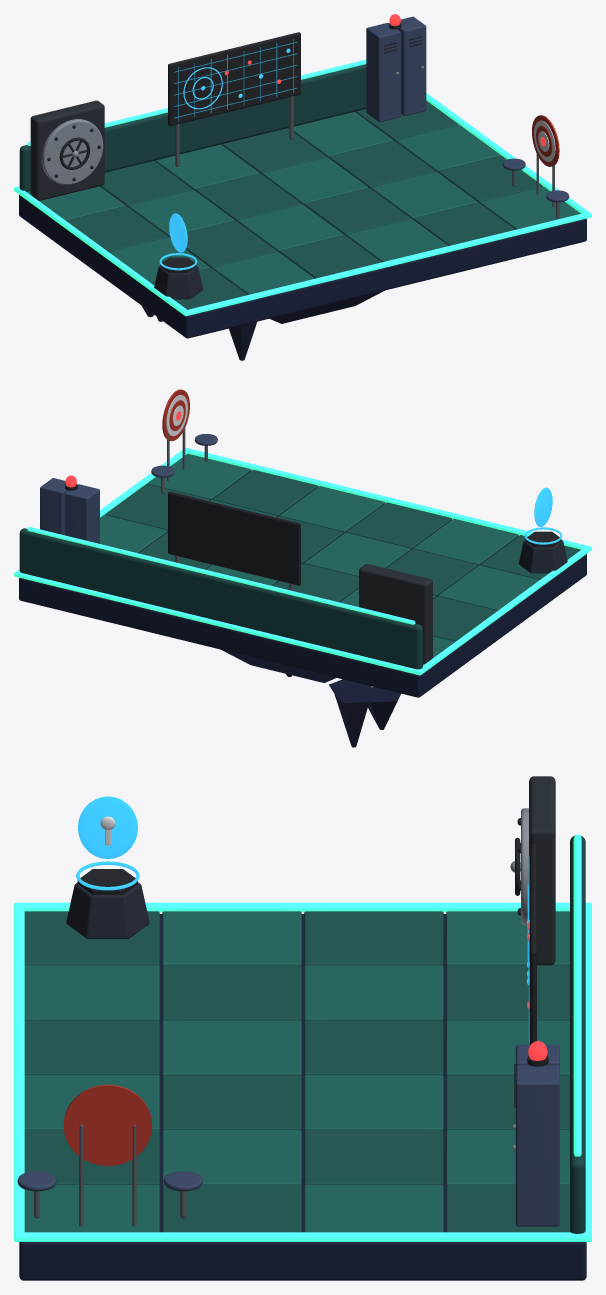
Rendered from island_security.glb.
The picture shows the model from 3 angles, top to bottom: view 1: azimuth 30°, elevation 25°; view 2: azimuth 150°, elevation 25°; view 3: azimuth 270°, elevation 25°; orthographic projection. The views are drawn at different scales.
Visible parts, largest first — view 1: Slab, WallBack, ThreatScreen, VaultFrame, Locker, Tile.009, Tile.013, Tile.017, Tile.018, Tile.010, Tile.014, VaultDoor (+28 smaller); view 2: WallBack, Slab, ThreatScreen, VaultFrame, Tile.019, Tile.007, Tile.015, Tile.011, Tile.002, Tile.010, Tile.023, RimZ (+20 smaller); view 3: Slab, Tile.005, Tile.006, Tile.009, Tile.010, Tile.013, Tile.014, Tile.017, Tile.001, Tile.002, Tile.007, Tile.011 (+29 smaller).
Boxes of the visible parts, x1=… form: Slab: x1=19, y1=112, x2=586, y2=338; WallBack: x1=19, y1=64, x2=366, y2=191; ThreatScreen: x1=168, y1=32, x2=300, y2=126; VaultFrame: x1=30, y1=100, x2=104, y2=200; Locker: x1=366, y1=23, x2=401, y2=122; Tile.009: x1=195, y1=173, x2=301, y2=220; Tile.013: x1=262, y1=157, x2=368, y2=204; Tile.017: x1=329, y1=141, x2=435, y2=187; Tile.018: x1=371, y1=171, x2=477, y2=218; Tile.010: x1=237, y1=204, x2=343, y2=251; Tile.014: x1=304, y1=188, x2=410, y2=235; VaultDoor: x1=41, y1=119, x2=103, y2=184; WallBack: x1=19, y1=528, x2=422, y2=669; Slab: x1=19, y1=471, x2=586, y2=697; ThreatScreen: x1=168, y1=491, x2=300, y2=585; VaultFrame: x1=359, y1=564, x2=432, y2=664; Tile.019: x1=212, y1=469, x2=318, y2=516; Tile.007: x1=413, y1=518, x2=519, y2=565; Tile.015: x1=279, y1=486, x2=385, y2=532; Tile.011: x1=346, y1=502, x2=451, y2=548; Tile.002: x1=438, y1=565, x2=539, y2=610; Tile.010: x1=304, y1=532, x2=410, y2=576; Tile.023: x1=147, y1=453, x2=251, y2=499; RimZ: x1=14, y1=571, x2=423, y2=675; Slab: x1=19, y1=914, x2=586, y2=1280; Tile.005: x1=304, y1=965, x2=443, y2=1020; Tile.006: x1=162, y1=965, x2=301, y2=1020; Tile.009: x1=304, y1=1020, x2=443, y2=1075; Tile.010: x1=162, y1=1020, x2=301, y2=1075; Tile.013: x1=304, y1=1075, x2=443, y2=1130; Tile.014: x1=162, y1=1075, x2=301, y2=1130; Tile.017: x1=304, y1=1130, x2=443, y2=1185; Tile.001: x1=304, y1=911, x2=443, y2=965; Tile.002: x1=162, y1=911, x2=301, y2=965; Tile.007: x1=24, y1=965, x2=159, y2=1020; Tile.011: x1=24, y1=1020, x2=159, y2=1075.
Bounding box in the file's own units: 8.92 × 4.86 × 6.52.
